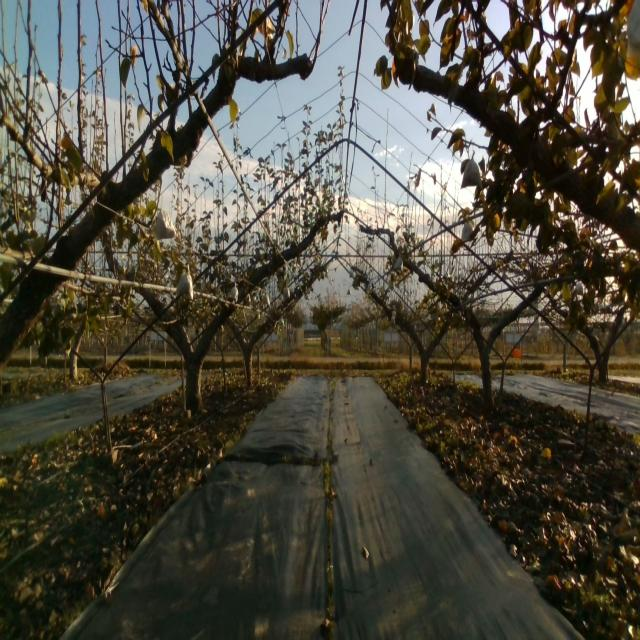pearbags: (460, 149, 482, 188), (153, 206, 176, 241), (176, 262, 193, 300), (461, 221, 474, 242)
